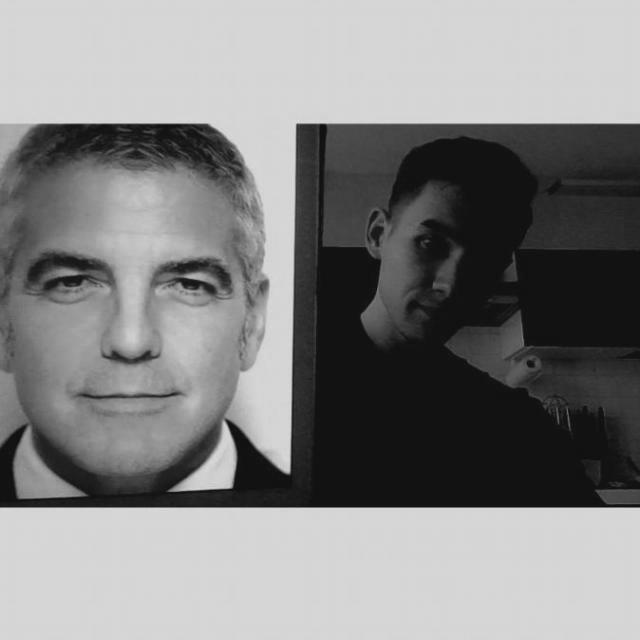fake: (0, 122, 329, 506)
real: (376, 182, 522, 342)
